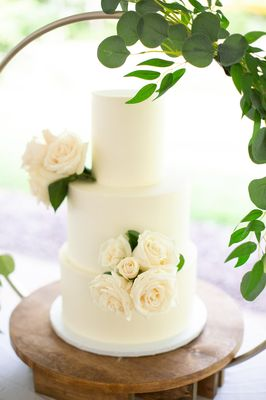soup: (57, 87, 198, 347)
